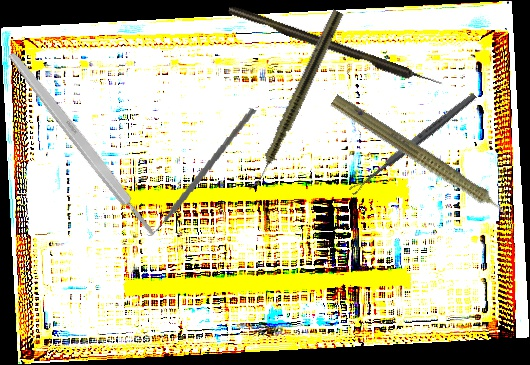Chopper: (136, 97, 258, 247)
Handpiece: (325, 91, 522, 231), (246, 8, 345, 195)
Hook Surgical: (226, 3, 445, 92)
Scalpel Handle: (5, 49, 158, 239)
Surgical Spoon: (348, 91, 478, 196)
